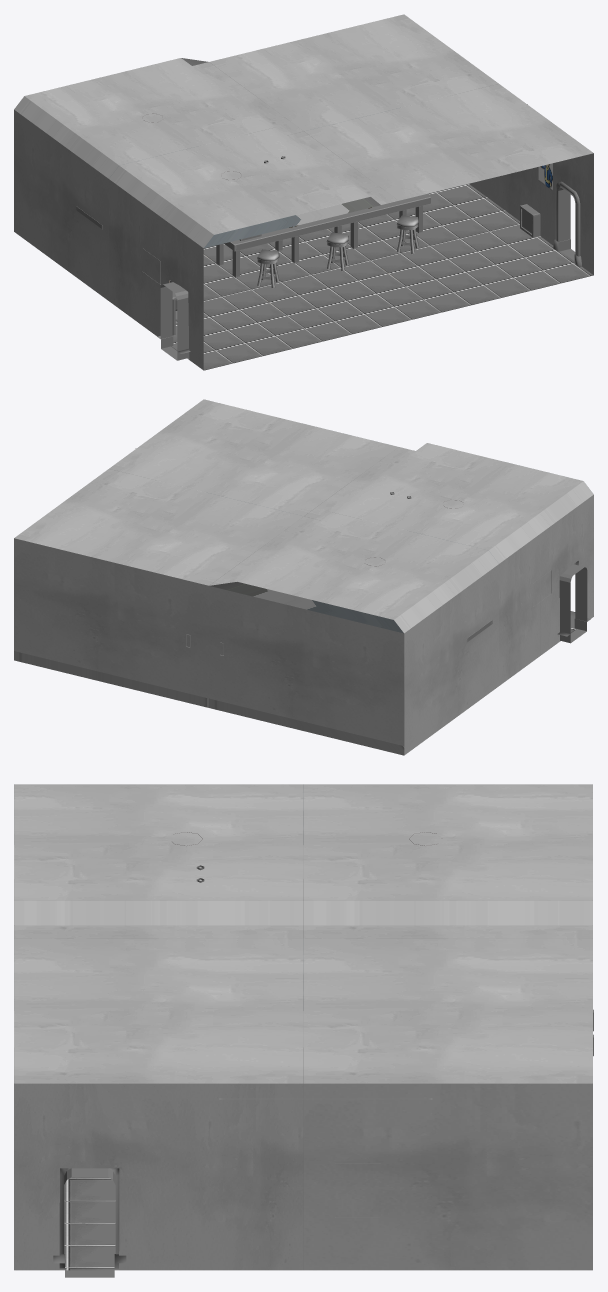
File: MSH_Bar_room_L1_R2_optimized.fbx
3 views of the same model, one above another, from view 1: azimuth 30°, elevation 25°; view 2: azimuth 150°, elevation 25°; view 3: azimuth 270°, elevation 25° (orthographic). The views are drawn at different scales.
Visible parts, largest first — view 1: lightmap0, lightmap-1; view 2: lightmap0, lightmap-1; view 3: lightmap0, lightmap-1.
Boxes of the visible parts, x1=… form: lightmap0: x1=14, y1=14, x2=593, y2=370; lightmap-1: x1=160, y1=187, x2=575, y2=360; lightmap0: x1=14, y1=399, x2=593, y2=755; lightmap-1: x1=559, y1=564, x2=587, y2=643; lightmap0: x1=14, y1=784, x2=593, y2=1270; lightmap-1: x1=64, y1=1168, x2=115, y2=1277.
Bounding box in the file's own units: 20.61 × 6.45 × 16.54.
